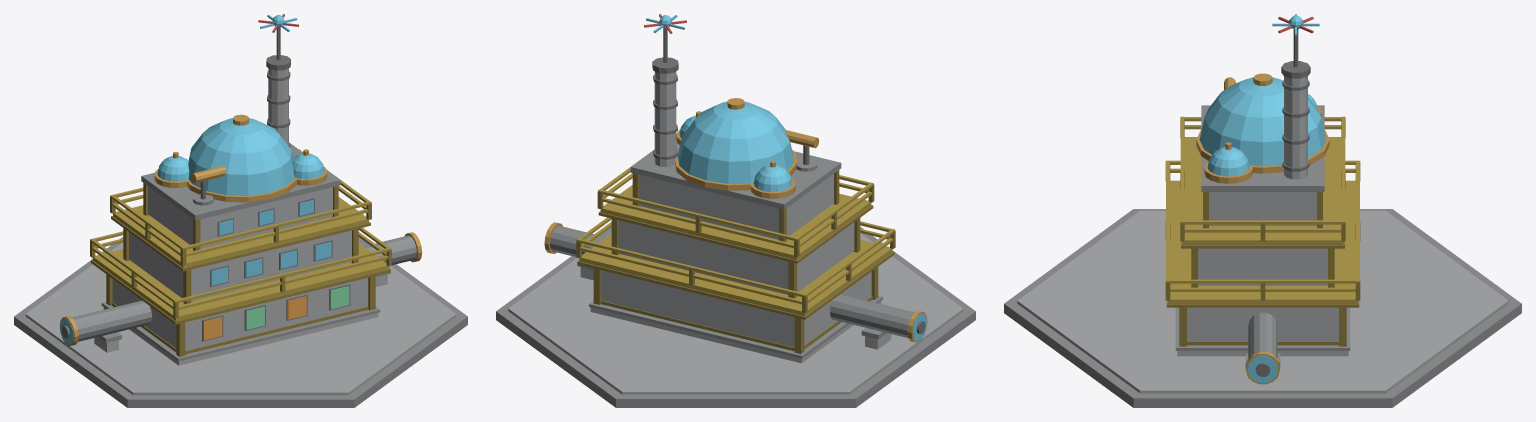
File: research_building_s2_50.glb
The picture shows the model from 3 angles, left to right: view 1: azimuth 30°, elevation 25°; view 2: azimuth 150°, elevation 25°; view 3: azimuth 270°, elevation 25°; orthographic projection. The views are drawn at different scales.
Visible parts, largest first — view 1: R_FoundRim, R_Foundation, R_DomeMain, R_MF_Walls, R_GF_Walls, R_Balcony1, R_UF_Walls, R_Balcony2, R_UFRoof, R_PipeStubW, R_PlinthCap, R_Plinth (+15 smaller); view 2: R_FoundRim, R_Foundation, R_GF_Walls, R_DomeMain, R_MF_Walls, R_UF_Walls, R_Balcony1, R_Balcony2, R_UFRoof, R_PipeStubW, R_Chimney, R_PlinthCap (+14 smaller); view 3: R_FoundRim, R_Foundation, R_DomeMain, R_Balcony1, R_Balcony2, R_GF_Walls, R_MF_Walls, R_UF_Walls, R_UFRoof, R_Chimney, R_PlinthCap, R_PipeStubE (+15 smaller).
Part boxes in pixels (<box>): R_FoundRim: <box>25,242,456,395</box>; R_Foundation: <box>14,237,467,407</box>; R_DomeMain: <box>188,118,294,195</box>; R_MF_Walls: <box>129,230,351,300</box>; R_GF_Walls: <box>112,278,368,350</box>; R_Balcony1: <box>92,243,389,321</box>; R_UF_Walls: <box>148,186,332,248</box>; R_Balcony2: <box>113,197,368,267</box>; R_UFRoof: <box>141,143,340,220</box>; R_PipeStubW: <box>72,300,151,341</box>; R_PlinthCap: <box>101,302,380,361</box>; R_Plinth: <box>103,307,378,365</box>; R_FoundRim: <box>508,233,963,394</box>; R_Foundation: <box>496,227,975,407</box>; R_GF_Walls: <box>601,270,871,347</box>; R_DomeMain: <box>677,101,794,183</box>; R_MF_Walls: <box>618,220,854,294</box>; R_UF_Walls: <box>639,174,833,239</box>; R_Balcony1: <box>579,234,892,316</box>; R_Balcony2: <box>600,185,871,259</box>; R_UFRoof: <box>630,139,841,209</box>; R_PipeStubW: <box>830,294,914,337</box>; R_Chimney: <box>654,71,676,167</box>; R_PlinthCap: <box>589,296,882,358</box>; R_FoundRim: <box>1017,210,1508,393</box>; R_Foundation: <box>1004,209,1521,407</box>; R_DomeMain: <box>1199,77,1326,166</box>; R_Balcony1: <box>1168,180,1357,303</box>; R_Balcony2: <box>1182,137,1343,244</box>; R_GF_Walls: <box>1187,307,1338,341</box>; R_MF_Walls: <box>1198,248,1327,285</box>; R_UF_Walls: <box>1209,192,1316,225</box>; R_UFRoof: <box>1201,105,1324,191</box>; R_Chimney: <box>1284,76,1307,179</box>; R_PlinthCap: <box>1175,307,1350,350</box>; R_PipeStubE: <box>1248,312,1277,358</box>.
Bounding box in the file's own units: 3.51 × 2.73 × 3.92.
